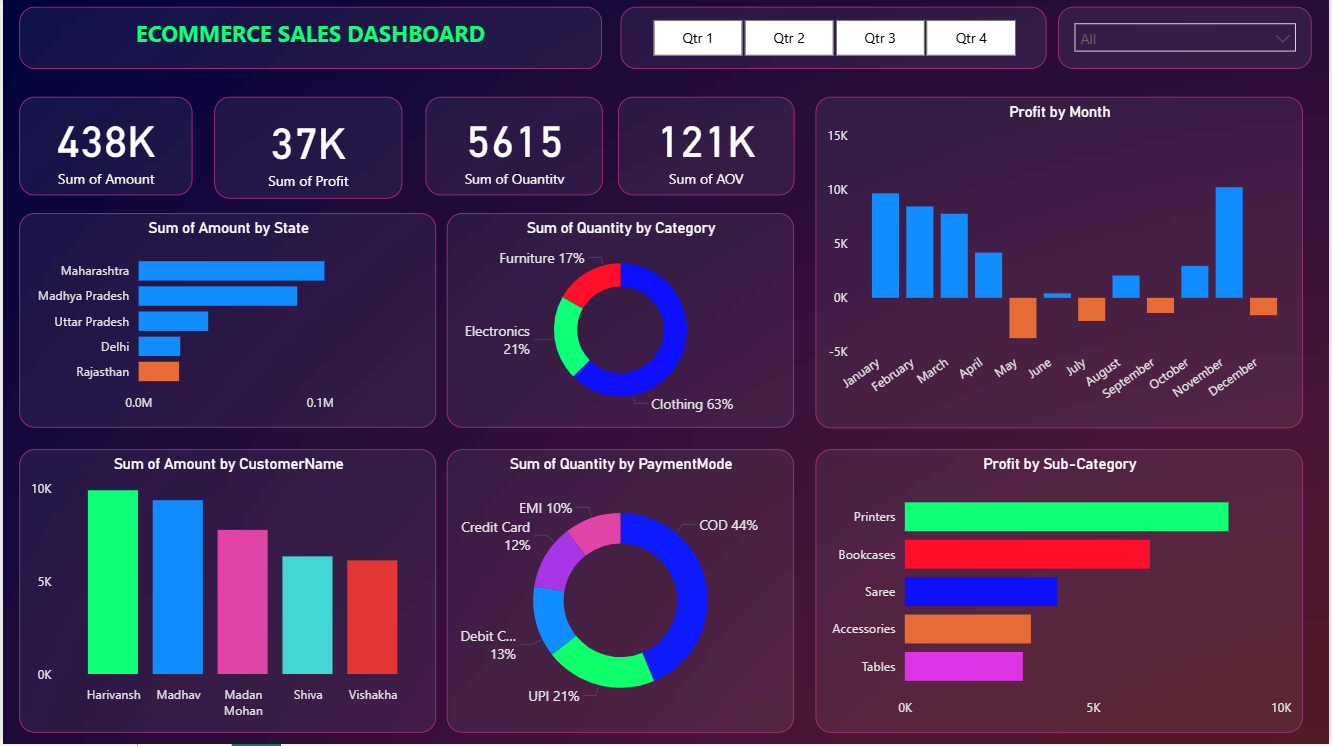

The page's visual inventory and layout, read from the dashboard file:
{"tool":"powerbi","page":{"name":"Page 1","canvas":[1280,720],"ordinal":0},"visuals":[{"type":"columnChart","title":"Profit by Month","fields":{"Y":["Sum(Details.Profit)"],"Category":["Orders (1).Order Date.Variation.Date Hierarchy.Month"]},"box":[783.8,95,470,320],"z":1},{"type":"barChart","title":"Profit by Sub-Category","fields":{"Category":["Details.Sub-Category"],"Y":["Sum(Details.Profit)"]},"box":[783.8,435,470,273.8],"z":2},{"type":"donutChart","fields":{"Category":["Details.Category"],"Y":["Sum(Details.Quantity)"]},"box":[428.8,207.5,335,207.5],"z":3},{"type":"donutChart","fields":{"Y":["Sum(Details.Quantity)"],"Category":["Details.PaymentMode"]},"box":[428.8,435,335,273.8],"z":4},{"type":"slicer","fields":{"Values":["Orders (1).Order Date.Variation.Date Hierarchy.Quarter"]},"box":[596.2,8.8,411.2,60],"z":5},{"type":"card","fields":{"Values":["Sum(Details.Quantity)"]},"box":[407.5,95,171.2,95],"z":6},{"type":"card","fields":{"Values":["Sum(Details.Profit)"]},"box":[203.8,95,181.2,98.8],"z":7},{"type":"card","fields":{"Values":["Sum(Details.AOV)"]},"box":[593.8,95,170,95],"z":8},{"type":"barChart","title":"Sum of Amount by State","fields":{"Y":["Sum(Details.Amount)"],"Category":["Orders (1).State"]},"box":[16.2,207.5,402.5,207.5],"z":9},{"type":"columnChart","fields":{"Category":["Orders (1).CustomerName"],"Y":["Sum(Details.Amount)"]},"box":[16.2,435,402.5,273.8],"z":10},{"type":"slicer","fields":{"Values":["Orders (1).State"]},"box":[1018.8,8.8,245,60],"z":11},{"type":"textbox","box":[16.2,8.8,562.5,60],"z":12},{"type":"card","fields":{"Values":["Sum(Details.Amount)"]},"box":[16.2,95,167.5,95],"z":13}]}

Visuals, with their boxes in screenshot pixels (x1, y1, x2, y2), scaled from the page's 1280x720 canvas onto the 1332x746 screenshot:
"Profit by Month" columnChart: detection(816, 98, 1305, 430)
"Profit by Sub-Category" barChart: detection(816, 451, 1305, 734)
donutChart - Details.Category x Sum(Details.Quantity): detection(446, 215, 795, 430)
donutChart - Sum(Details.Quantity) x Details.PaymentMode: detection(446, 451, 795, 734)
slicer - Orders (1).Order Date.Variation.Date Hierarchy.Quarter: detection(620, 9, 1048, 71)
card - Sum(Details.Quantity): detection(424, 98, 602, 197)
card - Sum(Details.Profit): detection(212, 98, 401, 201)
card - Sum(Details.AOV): detection(618, 98, 795, 197)
"Sum of Amount by State" barChart: detection(17, 215, 436, 430)
columnChart - Orders (1).CustomerName x Sum(Details.Amount): detection(17, 451, 436, 734)
slicer - Orders (1).State: detection(1060, 9, 1315, 71)
textbox: detection(17, 9, 602, 71)
card - Sum(Details.Amount): detection(17, 98, 191, 197)
